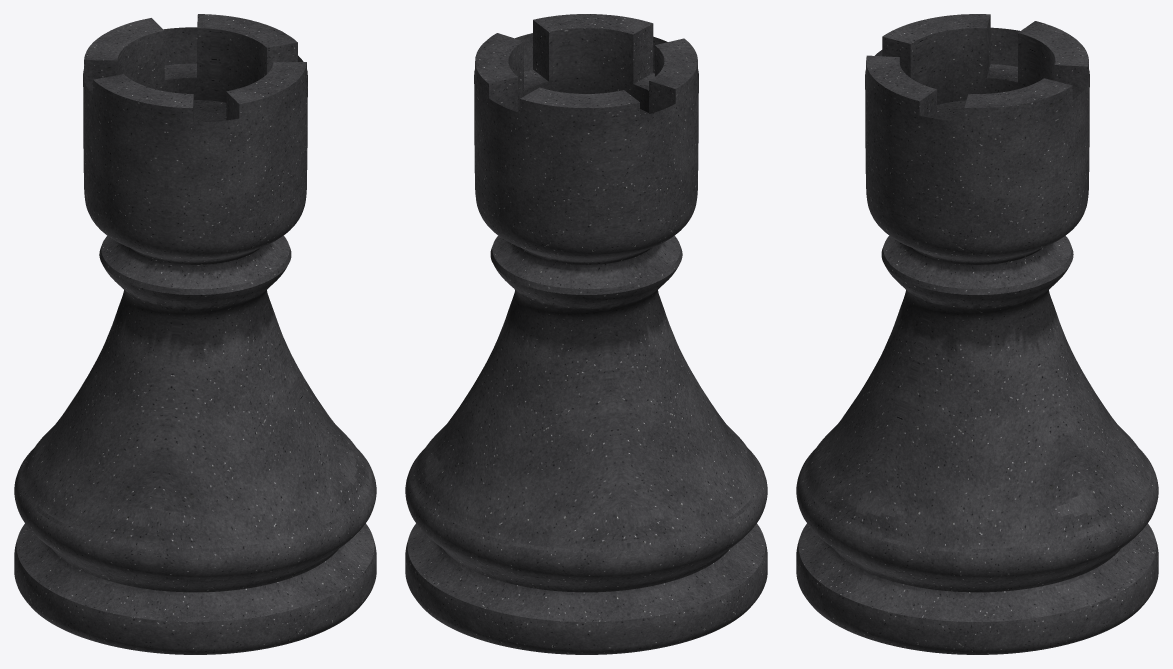
Rendered from rook-black-hd.glb.
The picture shows the model from 3 angles, left to right: view 1: azimuth 30°, elevation 25°; view 2: azimuth 150°, elevation 25°; view 3: azimuth 270°, elevation 25°; orthographic projection.
Visible parts, largest first — view 1: vez_cerna; view 2: vez_cerna; view 3: vez_cerna.
Part boxes in pixels (x1,y1,x2,y2): vez_cerna: [14, 14, 376, 654]; vez_cerna: [405, 14, 767, 654]; vez_cerna: [796, 14, 1158, 654].
Size of the model in its own units: 0.6248 by 1.01 by 0.6248.
Materials: 1 (1 with a texture image).
